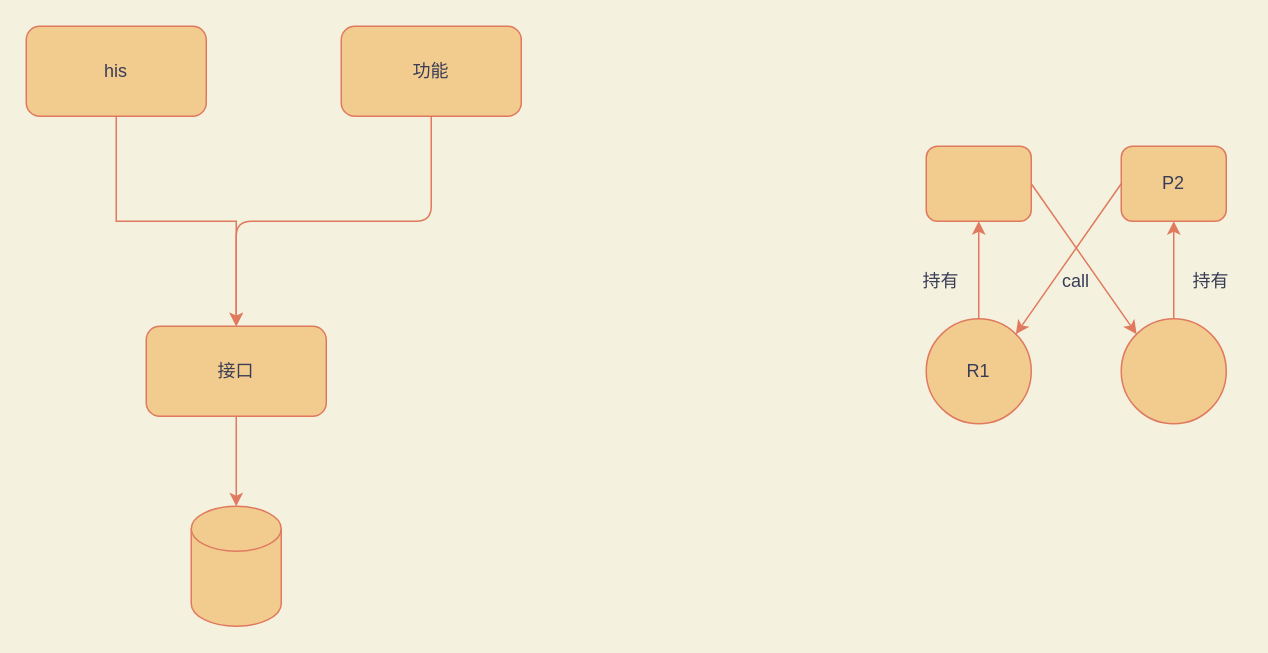
Image size: 1268x653. Some labels were removed from this diagram. Each missing label, with the box of its shape:
P1: (925, 145, 1031, 221)
R2: (1120, 317, 1226, 424)
sqlserver: (190, 505, 281, 626)
